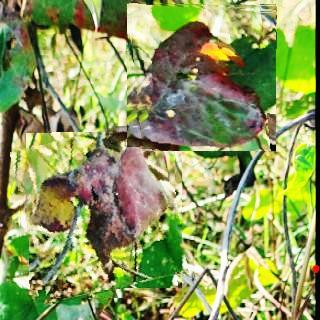blight: (18, 126, 182, 299), (128, 2, 276, 151)
